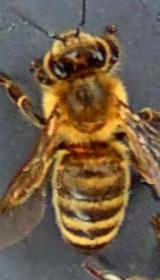varroa_mite: (60, 138, 98, 158)
